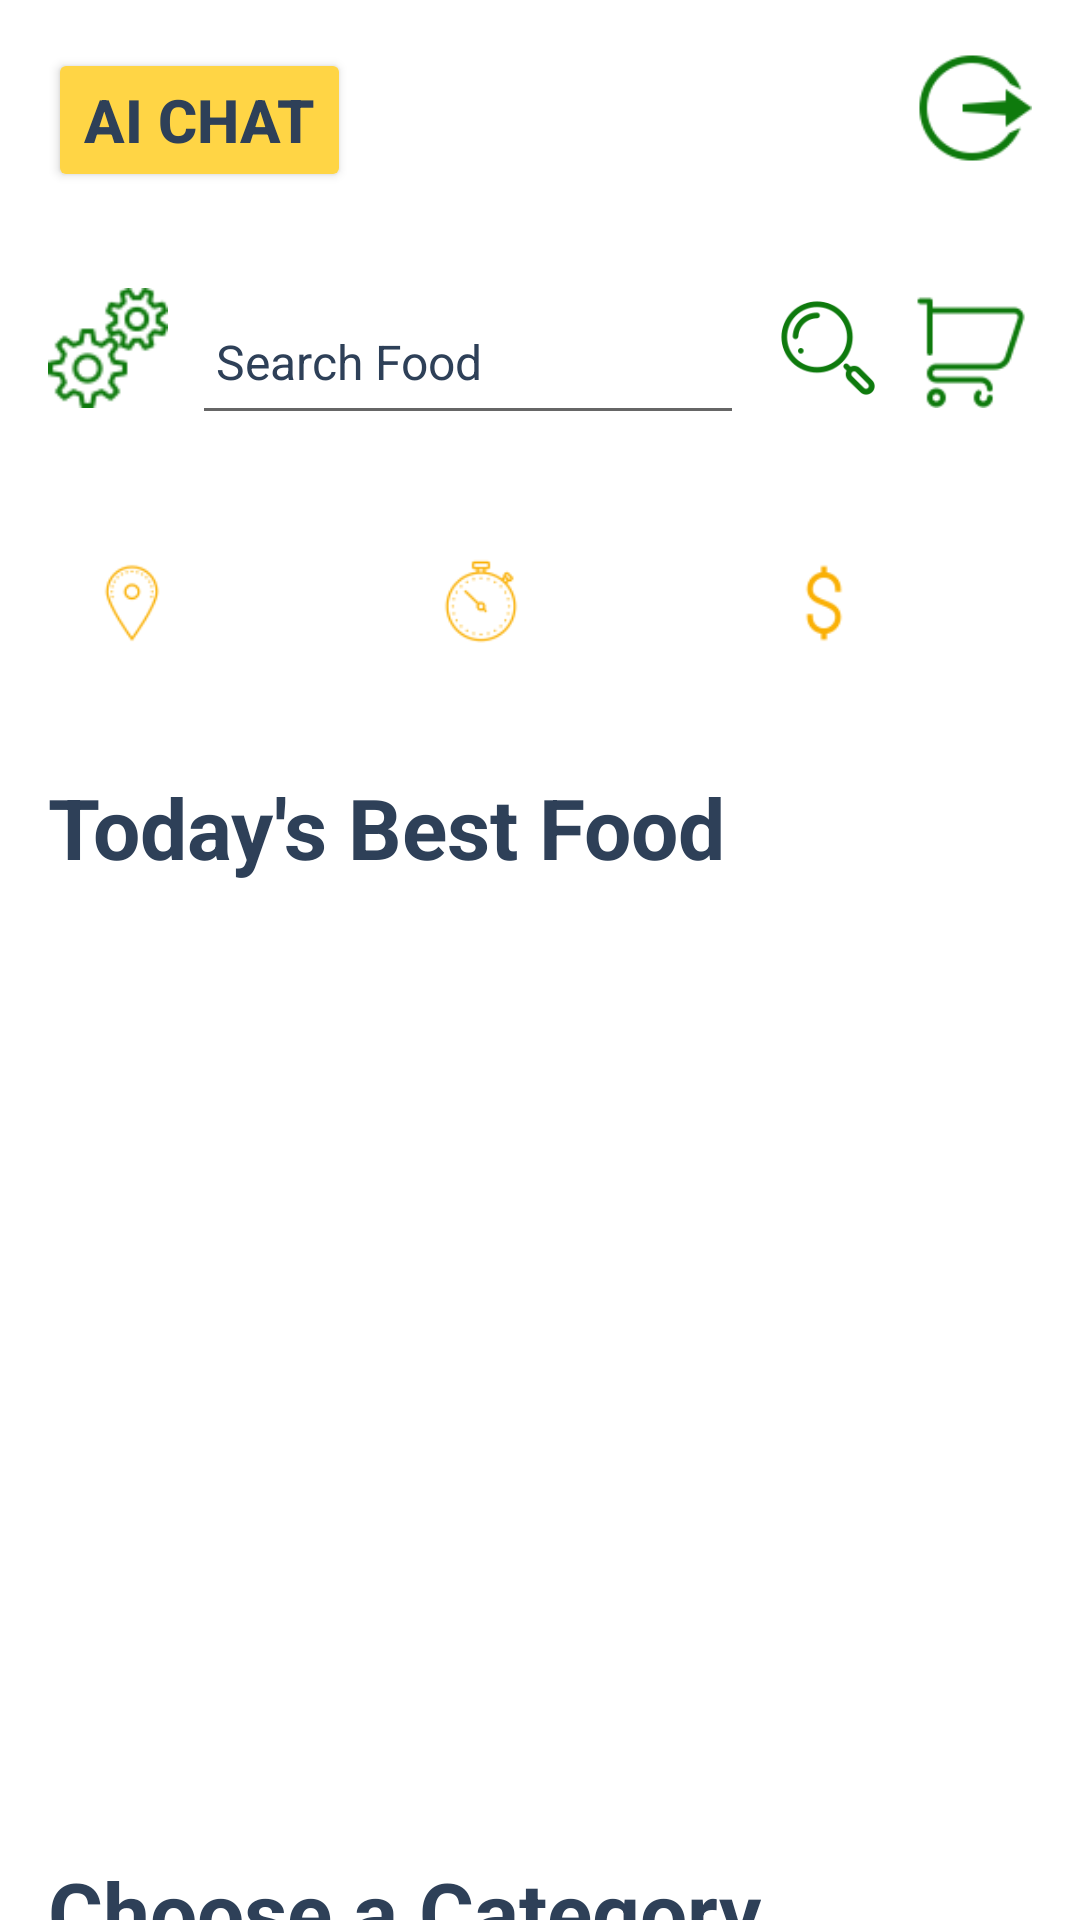

Named icons in this screenshot (1080 × 1920) and their centers, (x,y):
iconscartss: (971,352)
iconsdollarss: (824,603)
iconslocc: (132,603)
iconssearchh: (828,348)
iconstimee: (481,601)
